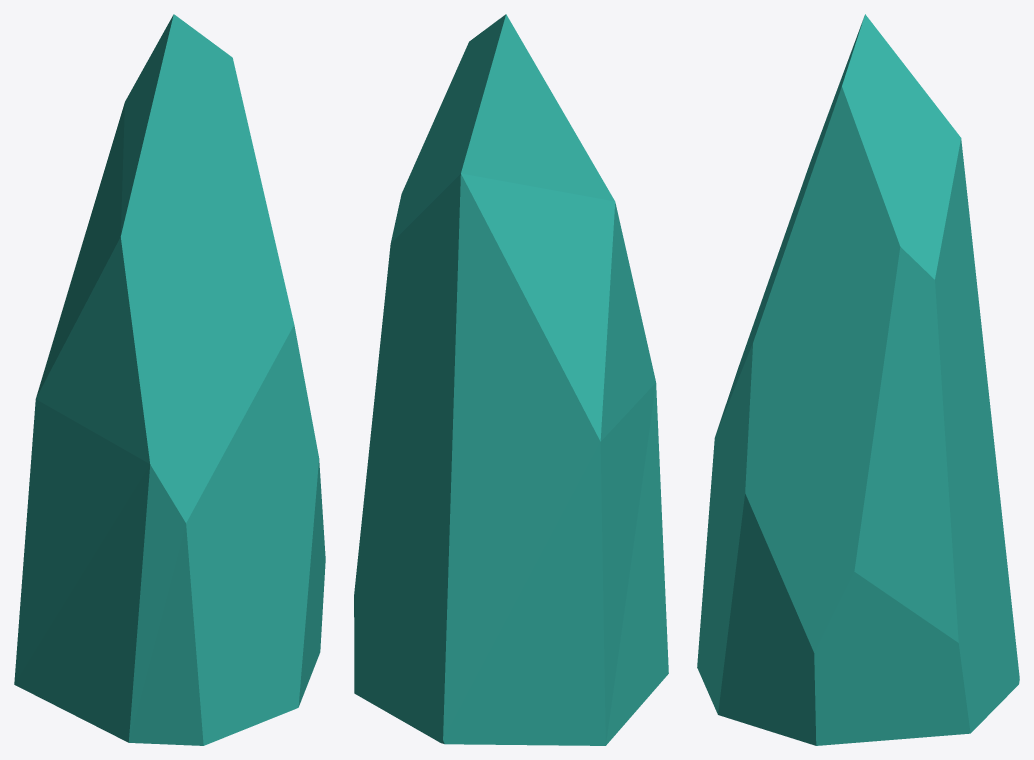
Rendered from Crystal_Cut_Single.FBX.
3 renders of one model, left to right at view 1: azimuth 30°, elevation 25°; view 2: azimuth 150°, elevation 25°; view 3: azimuth 270°, elevation 25°, orthographic. The views are drawn at different scales.
Visible parts, largest first — view 1: Object033; view 2: Object033; view 3: Object033.
Part boxes in pixels (x1,y1,x2,y2): Object033: (14, 14, 325, 745); Object033: (354, 14, 668, 745); Object033: (697, 14, 1019, 745).
Bounding box in the file's own units: 7.05 × 17.45 × 7.48.
